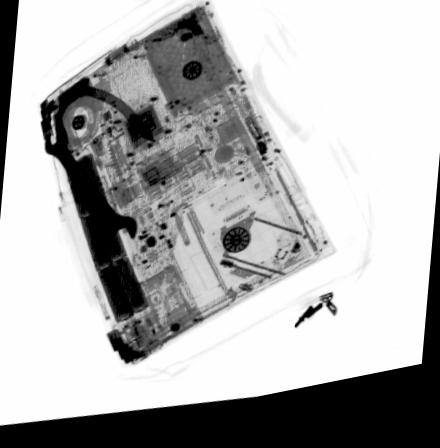Wrench: (41, 133, 139, 256)
